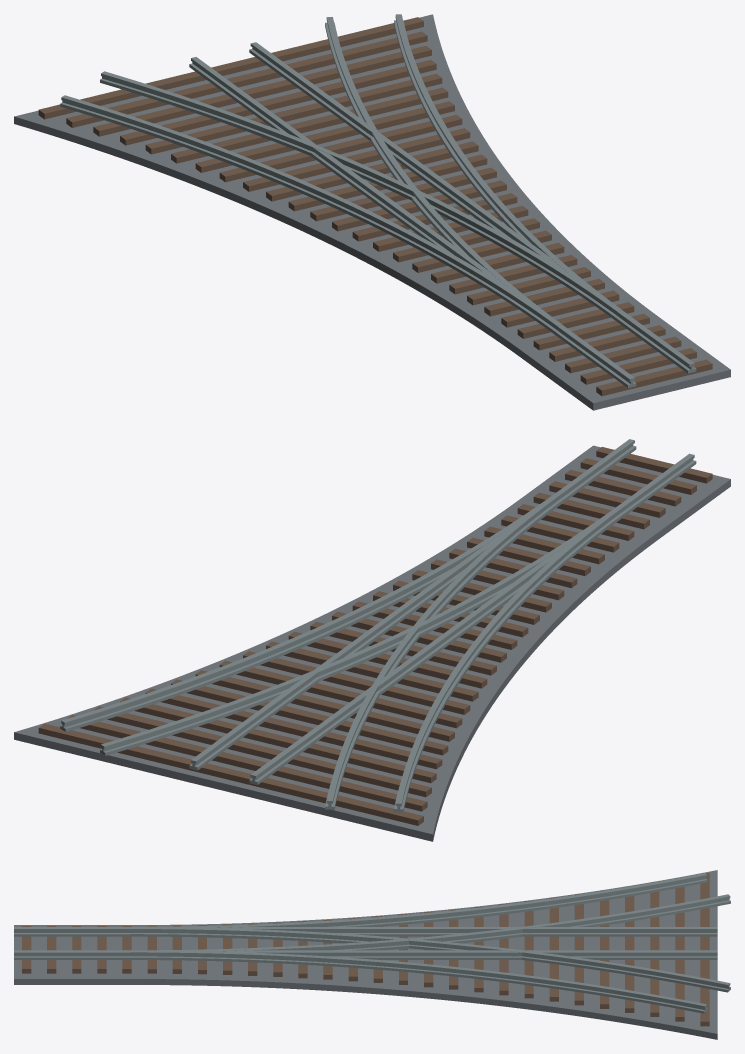
Rendered from DeadRail_Track_ThreeWay.fbx.
3 renders of one model, top to bottom at view 1: azimuth 30°, elevation 25°; view 2: azimuth 150°, elevation 25°; view 3: azimuth 270°, elevation 25°, orthographic. The views are drawn at different scales.
Visible parts, largest first — view 1: ThreeWay_RailBed_Mesh; view 2: ThreeWay_RailBed_Mesh; view 3: ThreeWay_RailBed_Mesh.
Boxes of the visible parts, left/top/right/bottom form: ThreeWay_RailBed_Mesh: left=14, top=14, right=730, bottom=410; ThreeWay_RailBed_Mesh: left=14, top=439, right=730, bottom=841; ThreeWay_RailBed_Mesh: left=14, top=870, right=730, bottom=1039.
Size of the model in its own units: 10.05 by 0.523 by 18.56.
